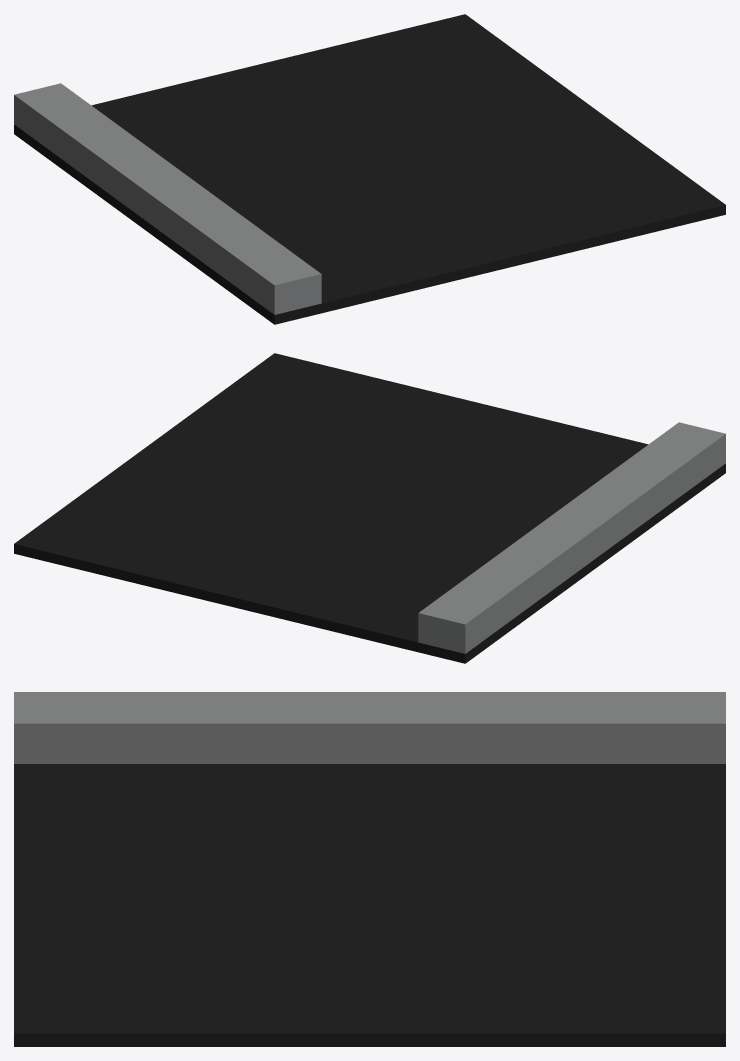
File: rightgutter.gltf
The picture shows the model from 3 angles, top to bottom: view 1: azimuth 30°, elevation 25°; view 2: azimuth 150°, elevation 25°; view 3: azimuth 270°, elevation 25°; orthographic projection. The views are drawn at different scales.
Parts seen in each view (by area): view 1: RoadPlane, gutter; view 2: RoadPlane, gutter; view 3: RoadPlane, gutter.
Boxes of the visible parts, x1=… form: RoadPlane: x1=14, y1=14, x2=725, y2=324; gutter: x1=14, y1=83, x2=321, y2=314; RoadPlane: x1=14, y1=353, x2=725, y2=663; gutter: x1=418, y1=422, x2=725, y2=653; RoadPlane: x1=14, y1=764, x2=725, y2=1046; gutter: x1=14, y1=692, x2=725, y2=763.
Size of the model in its own units: 3 by 0.25 by 3.
Materials: 1 (1 with a texture image).
